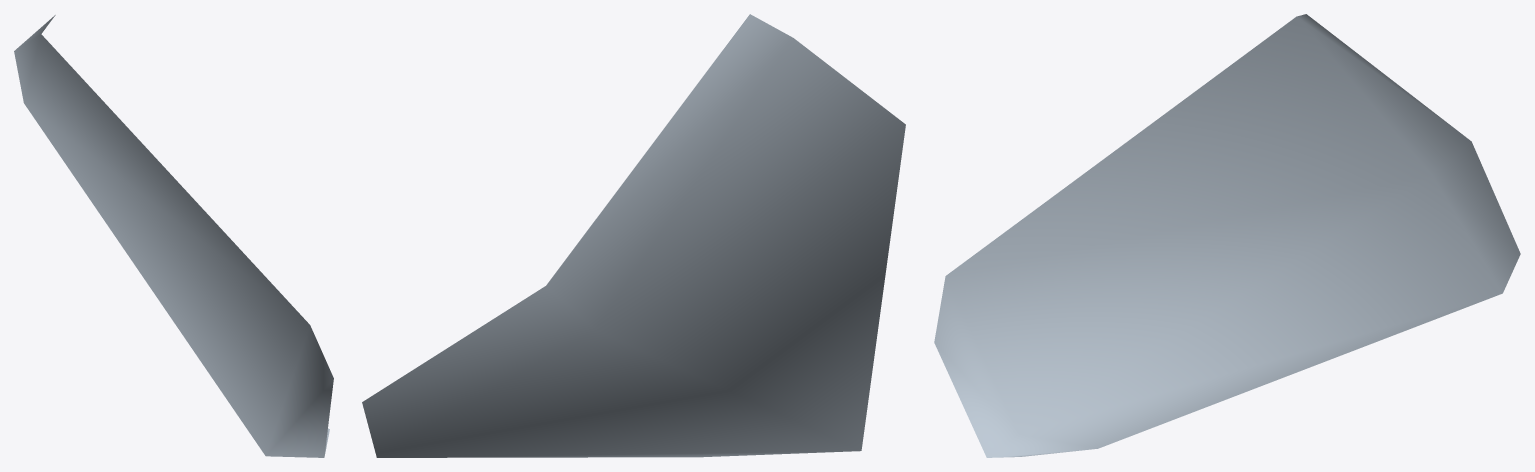
The model's file is medial-talocalcaneal-ligament-l.glb.
3 renders of one model, left to right at view 1: azimuth 30°, elevation 25°; view 2: azimuth 150°, elevation 25°; view 3: azimuth 270°, elevation 25°, orthographic. The views are drawn at different scales.
Visible parts, largest first — view 1: Medial talocalcaneal ligament.l; view 2: Medial talocalcaneal ligament.l; view 3: Medial talocalcaneal ligament.l.
Boxes of the visible parts, box(x1,y1,x2,y2) form: Medial talocalcaneal ligament.l: box(14, 15, 333, 457); Medial talocalcaneal ligament.l: box(362, 14, 905, 457); Medial talocalcaneal ligament.l: box(934, 14, 1520, 457).
Bounding box in the file's own units: 0.00471 × 0.0103 × 0.0143.
